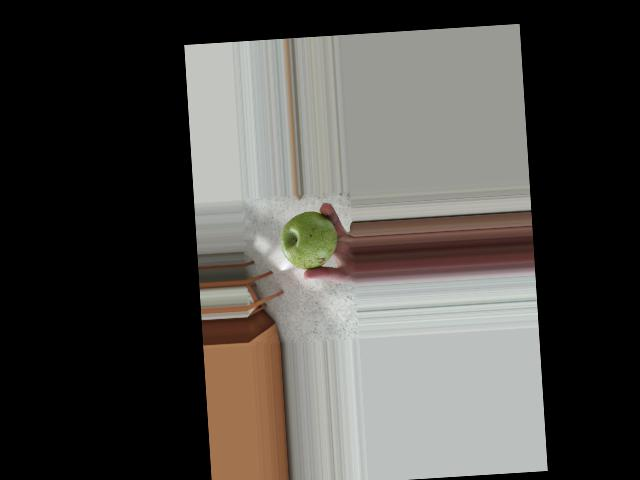apple: (277, 207, 340, 271)
